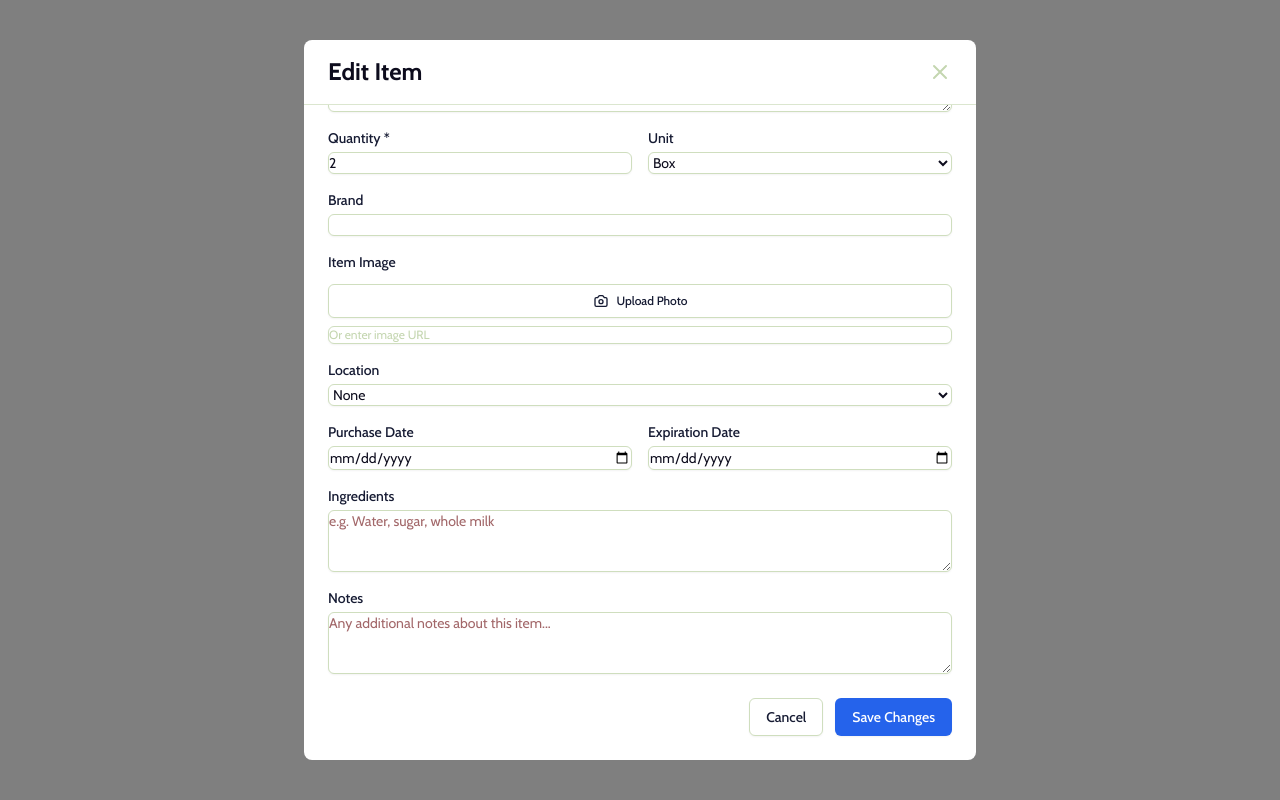
Test case: EditItemModal › falls back to a generic error when none is provided
(page scrolled)
What coordinates should you click on to do the following:
click the button "Save Changes"
I would click on:
 (894, 717)
Its box is [835,698,952,736].
(page scrolled)
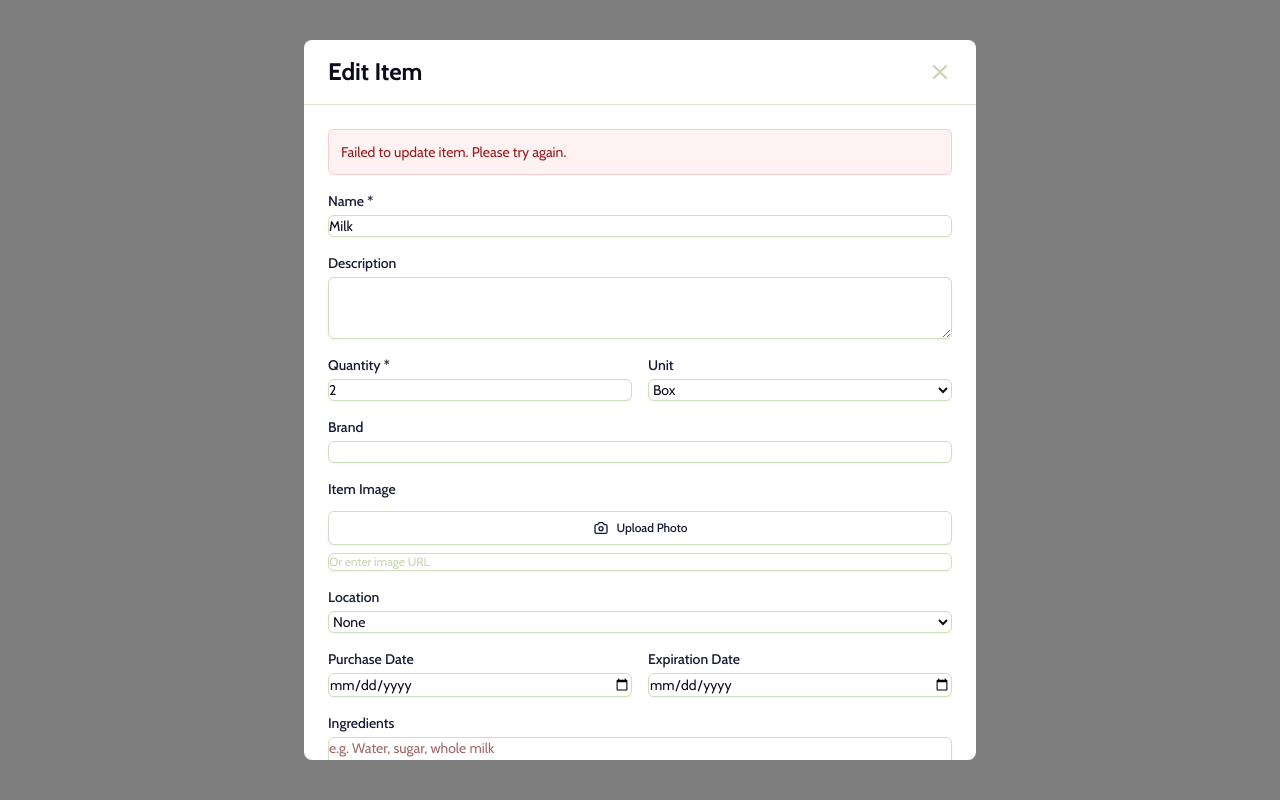
Check: the text "Failed to update item. Please try again." is shown, box [341,143,566,161]
